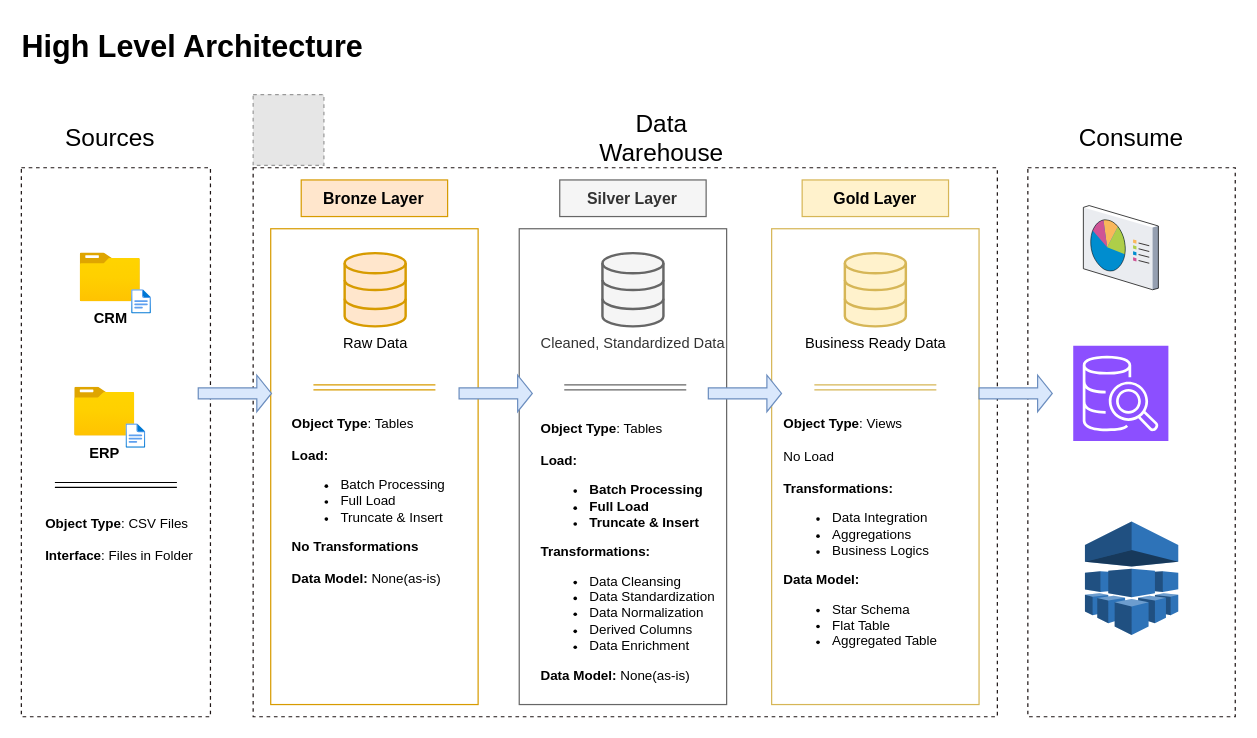
This 1257x738 diagram has some shape labels left out. Grey dashed boxes stand in for pictures. Each missing label, with the centre of its shape:
Ah-hoc SQL Queries: (x=1120, y=393)
BI & Reporting: (x=1120, y=247)
Machine Learning: (x=1131, y=577)
